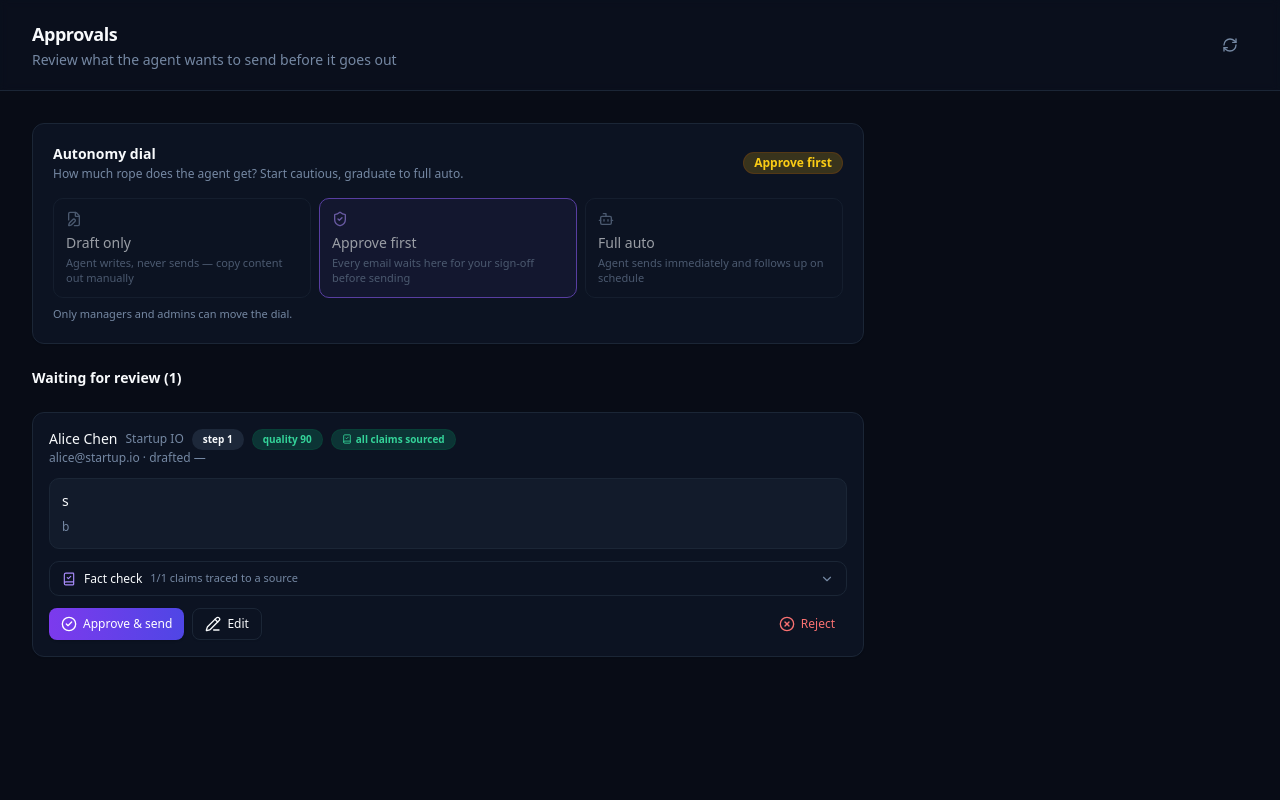
it: Approvals — provenance fact check › shows an all-sourced badge and a collapsed panel when every claim verifies
The width and height of the screenshot is (1280, 800).
Expected: the text "Alice Chen" is shown, x1=49 y1=429 x2=118 y2=449
Expected: the text "all claims sourced" is shown, x1=331 y1=429 x2=456 y2=450
Click the button "Fact check 1/1 claims traced to a source": (113, 578) x1=50 y1=562 x2=846 y2=595
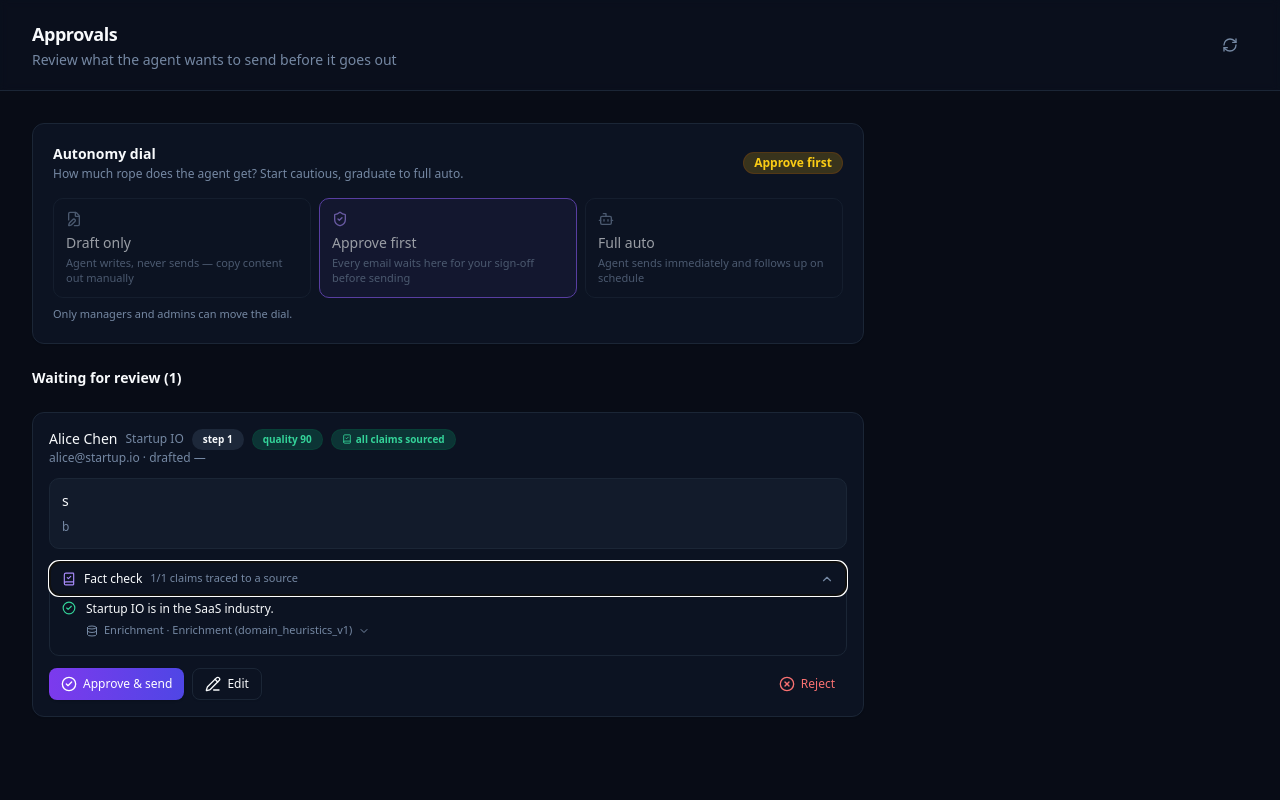
Expected: the text "Startup IO is in the SaaS industry." is shown, x1=86 y1=600 x2=274 y2=617
